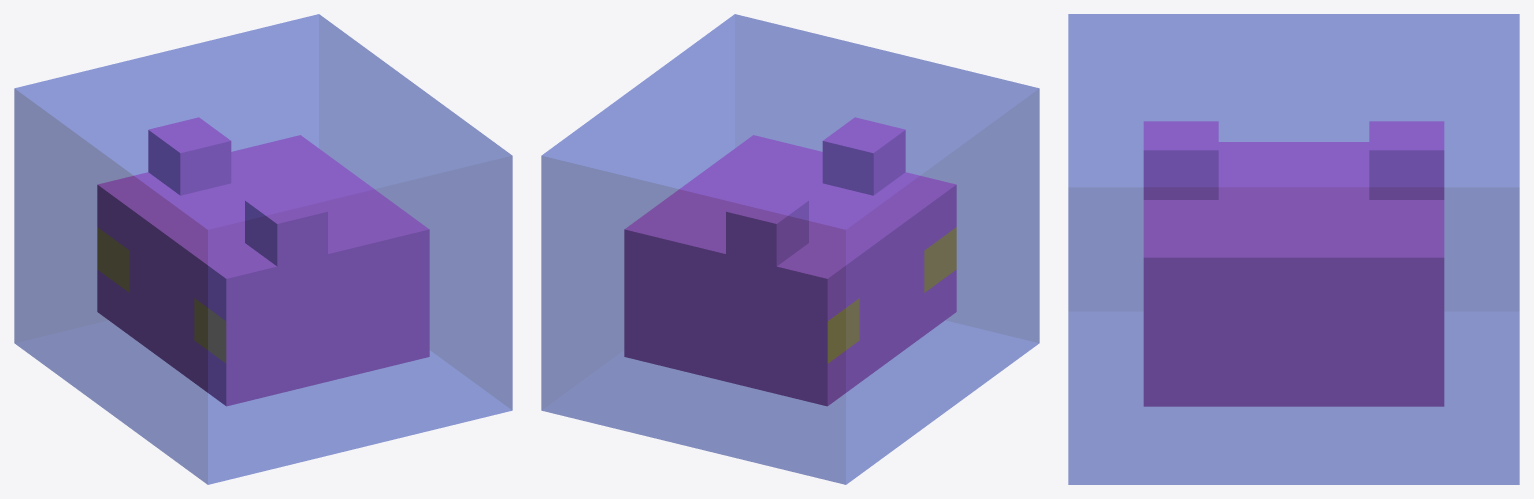
File: slime.gltf
3 views of the same model, side by side, from view 1: azimuth 30°, elevation 25°; view 2: azimuth 150°, elevation 25°; view 3: azimuth 270°, elevation 25° (orthographic). The views are drawn at different scales.
Parts seen in each view (by area): view 1: cube.001, cube, hornLeft, hornRight; view 2: cube.001, cube, hornRight, hornLeft; view 3: cube.001, cube, hornLeft, hornRight.
Part boxes in pixels (x1=…): cube.001: x1=14, y1=14, x2=512, y2=484; cube: x1=97, y1=135, x2=429, y2=406; hornLeft: x1=148, y1=117, x2=231, y2=195; hornRight: x1=245, y1=188, x2=327, y2=266; cube.001: x1=541, y1=14, x2=1039, y2=484; cube: x1=624, y1=135, x2=956, y2=406; hornRight: x1=822, y1=117, x2=905, y2=195; hornLeft: x1=726, y1=188, x2=808, y2=266; cube.001: x1=1068, y1=14, x2=1519, y2=484; cube: x1=1143, y1=142, x2=1444, y2=406; hornLeft: x1=1369, y1=121, x2=1444, y2=199; hornRight: x1=1143, y1=121, x2=1218, y2=199.
Bounding box in the file's own units: 0.375 × 0.3 × 0.4125.
2 materials, 2 textured.
